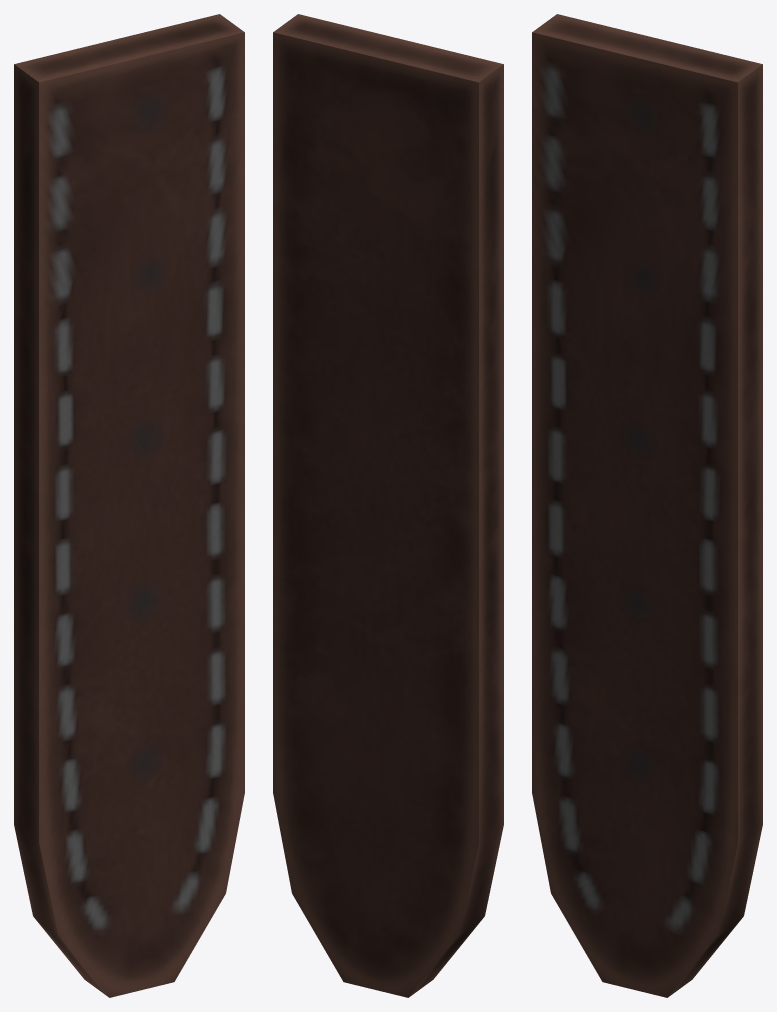
The model's file is StrapEnd_FlatShort.fbx.
3 renders of one model, left to right at view 1: azimuth 30°, elevation 25°; view 2: azimuth 150°, elevation 25°; view 3: azimuth 330°, elevation 25°, orthographic.
Visible parts, largest first — view 1: StrapEnd_FlatShort_LOD0; view 2: StrapEnd_FlatShort_LOD0; view 3: StrapEnd_FlatShort_LOD0.
Part boxes in pixels (bbox=[...]): StrapEnd_FlatShort_LOD0: bbox=[14, 14, 244, 997]; StrapEnd_FlatShort_LOD0: bbox=[273, 14, 503, 997]; StrapEnd_FlatShort_LOD0: bbox=[532, 14, 762, 997].
Size of what is drawn, in the model's own units: 14.01 by 60.67 by 2.95.
